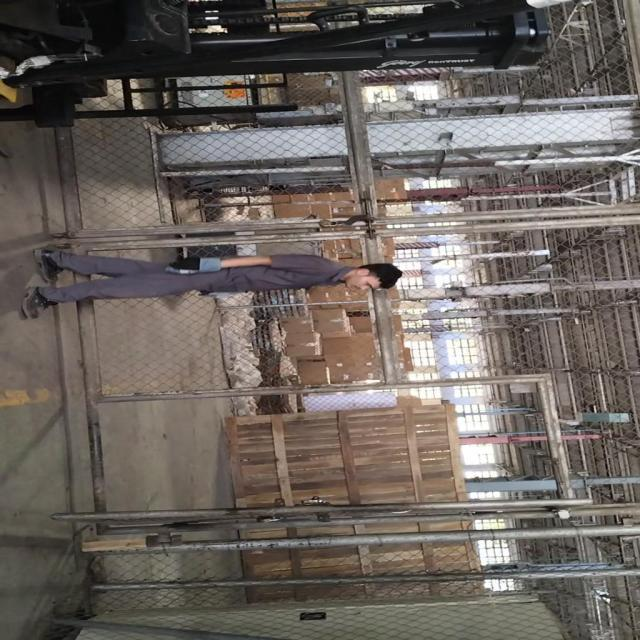Gloves-Detection: (152, 249, 222, 282)
